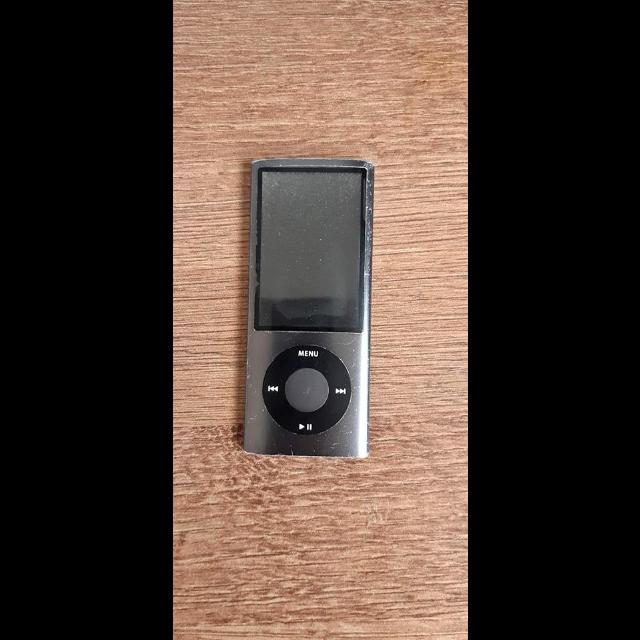Music-Player: (240, 150, 400, 474)
